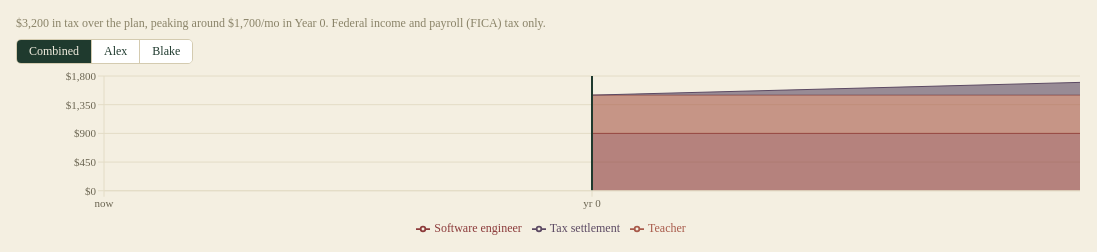
Test case: TaxChart — whose tax › totals a person's own tax, not their share of the household's
Check: the text with test id "tax-summary" shows "$3,200 in tax over the plan", box [16,16,546,30]
Click the button "Blake" at (166, 52), box [139,40,192,63]
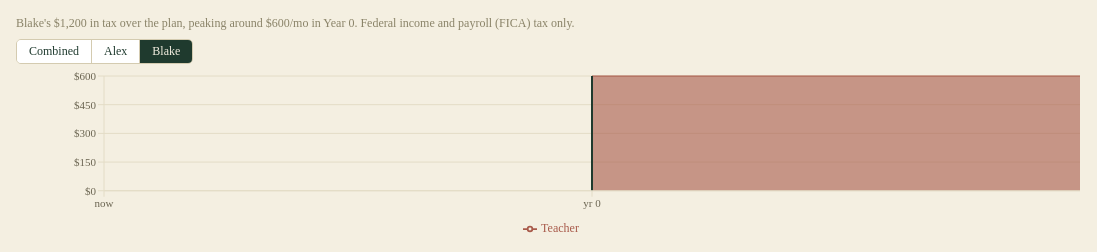
Check: the text with test id "tax-summary" shows "Blake's $1,200 in tax over the plan", box [16,16,575,30]
